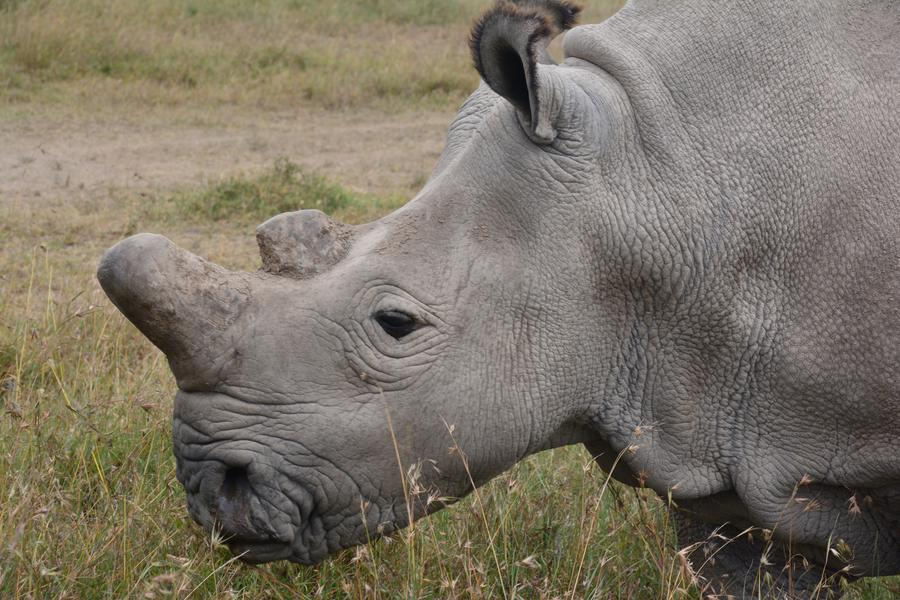rhino: (170, 12, 887, 553)
